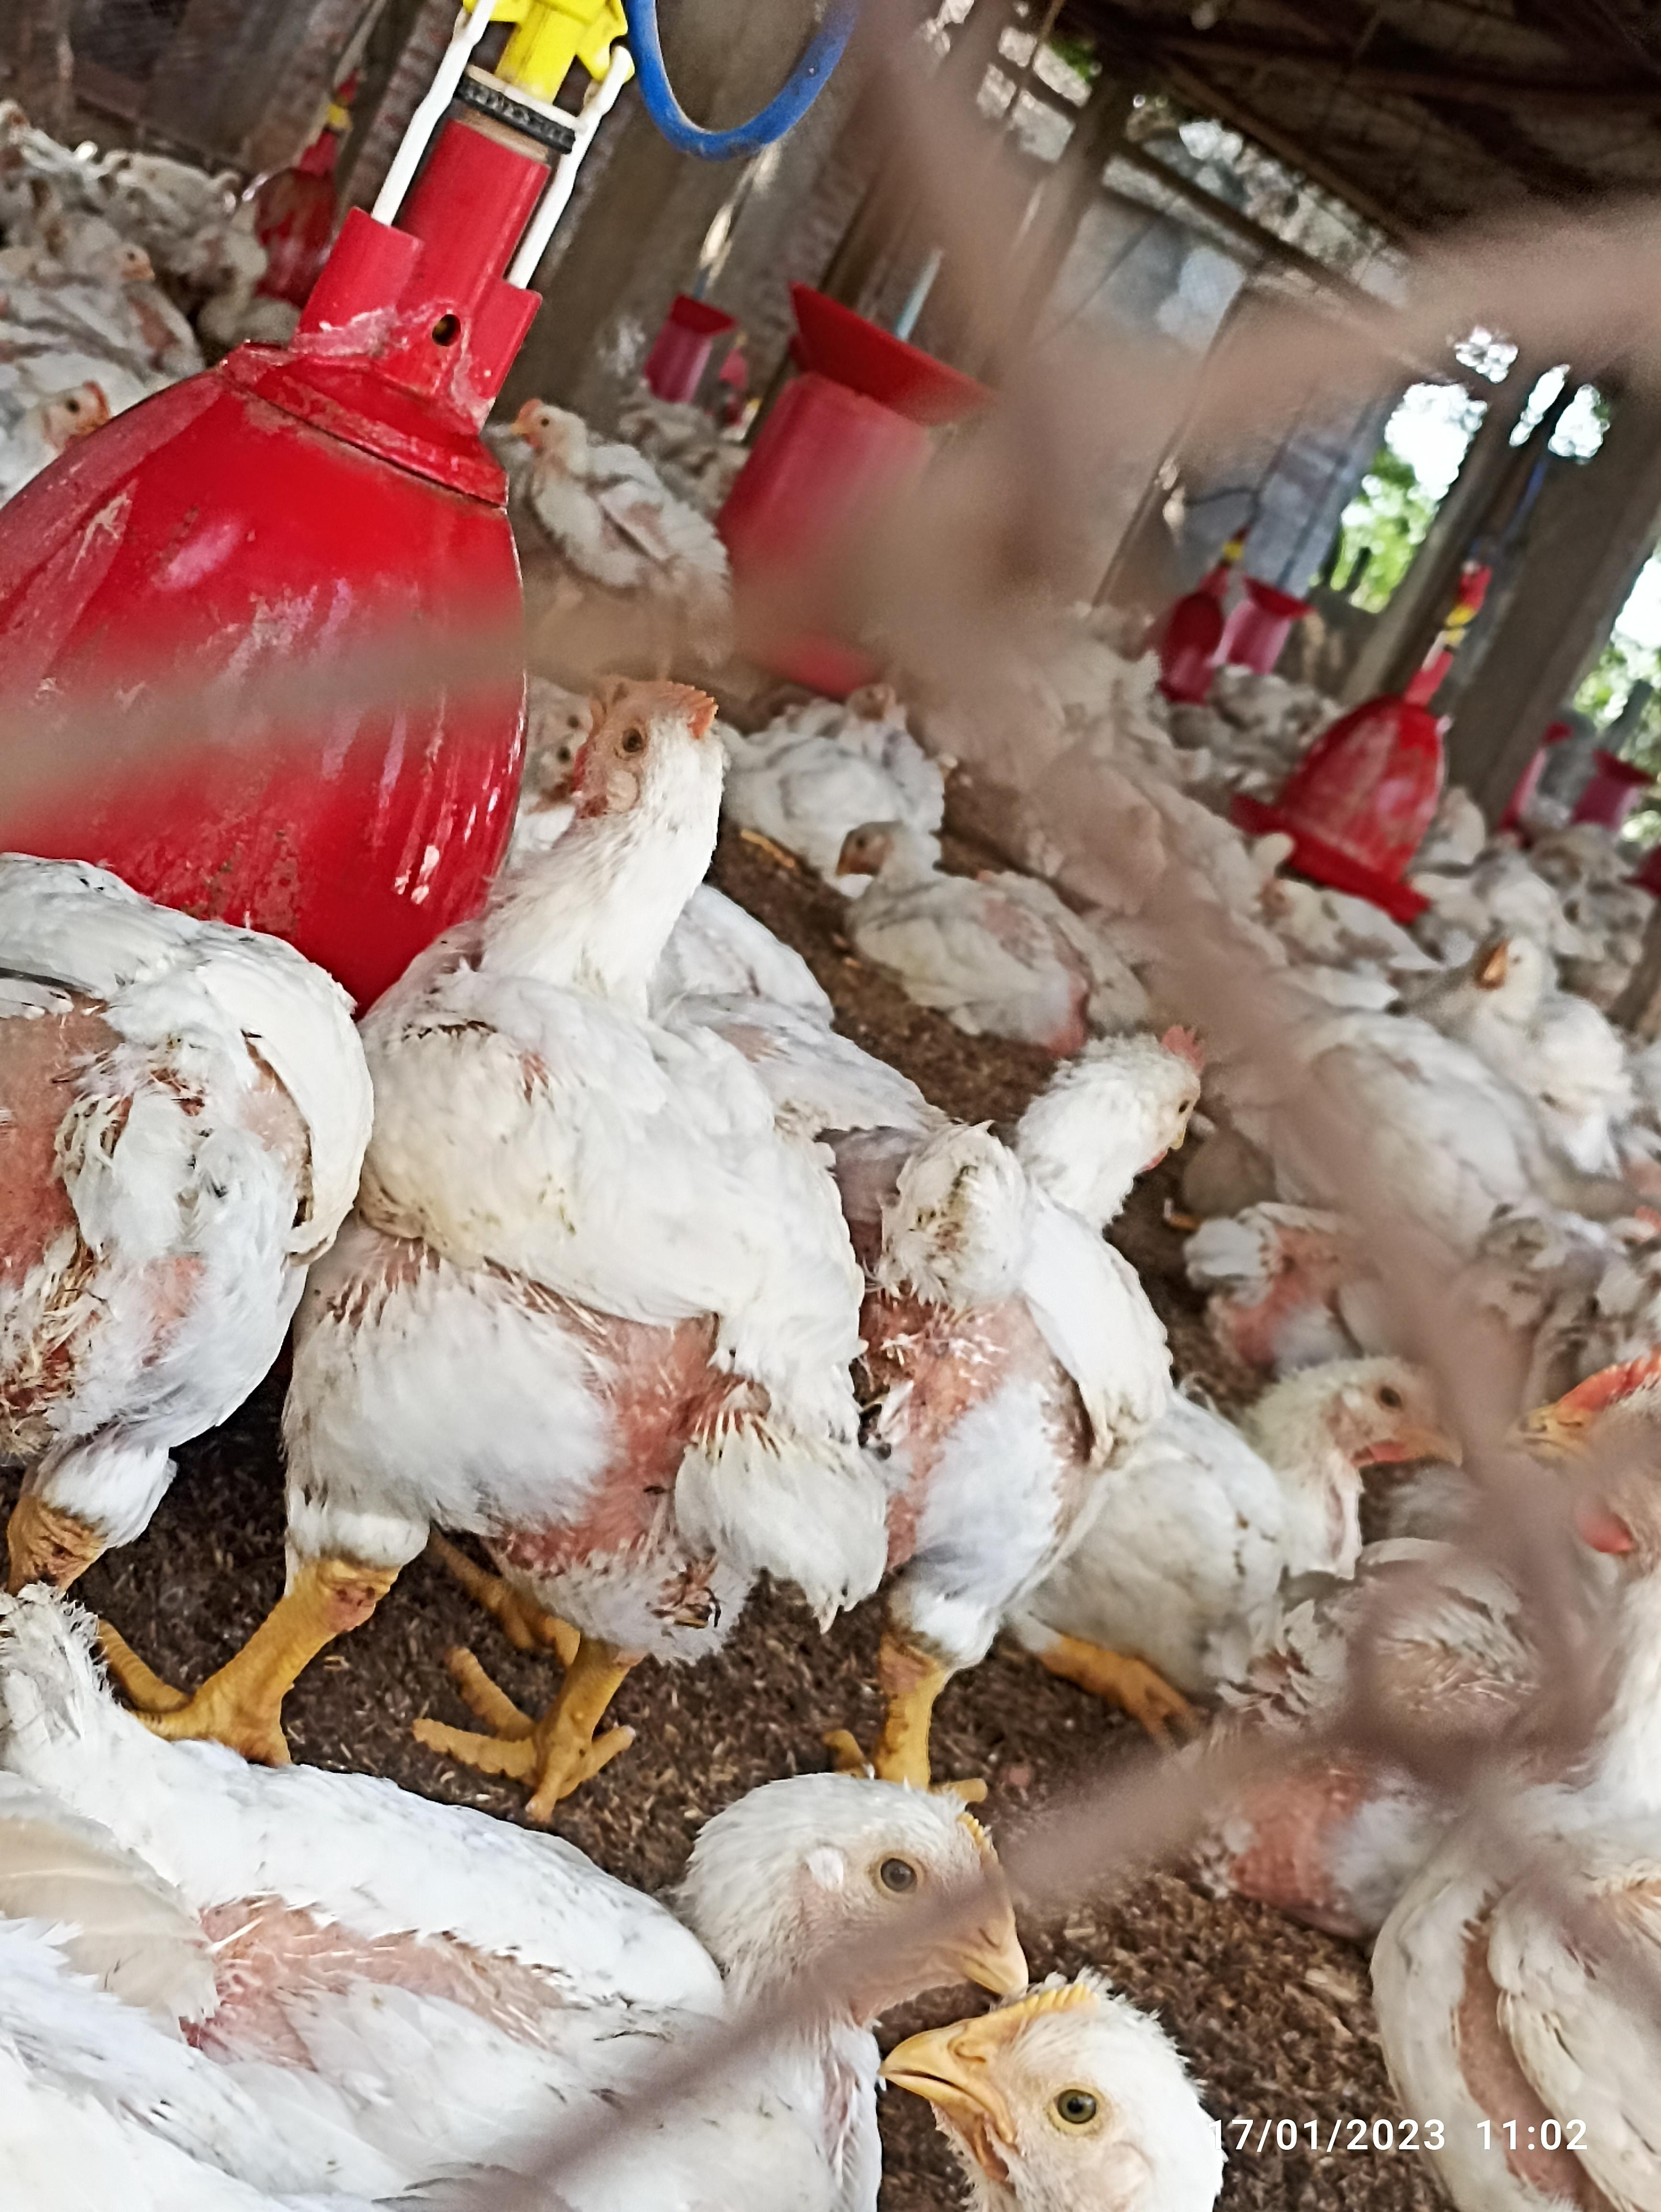Pollos: (288, 665, 848, 1591), (2, 1739, 1042, 2212), (797, 1026, 1220, 1587), (1108, 1355, 1452, 1666), (811, 802, 1176, 1048), (504, 394, 717, 614), (1462, 932, 1644, 1132)
